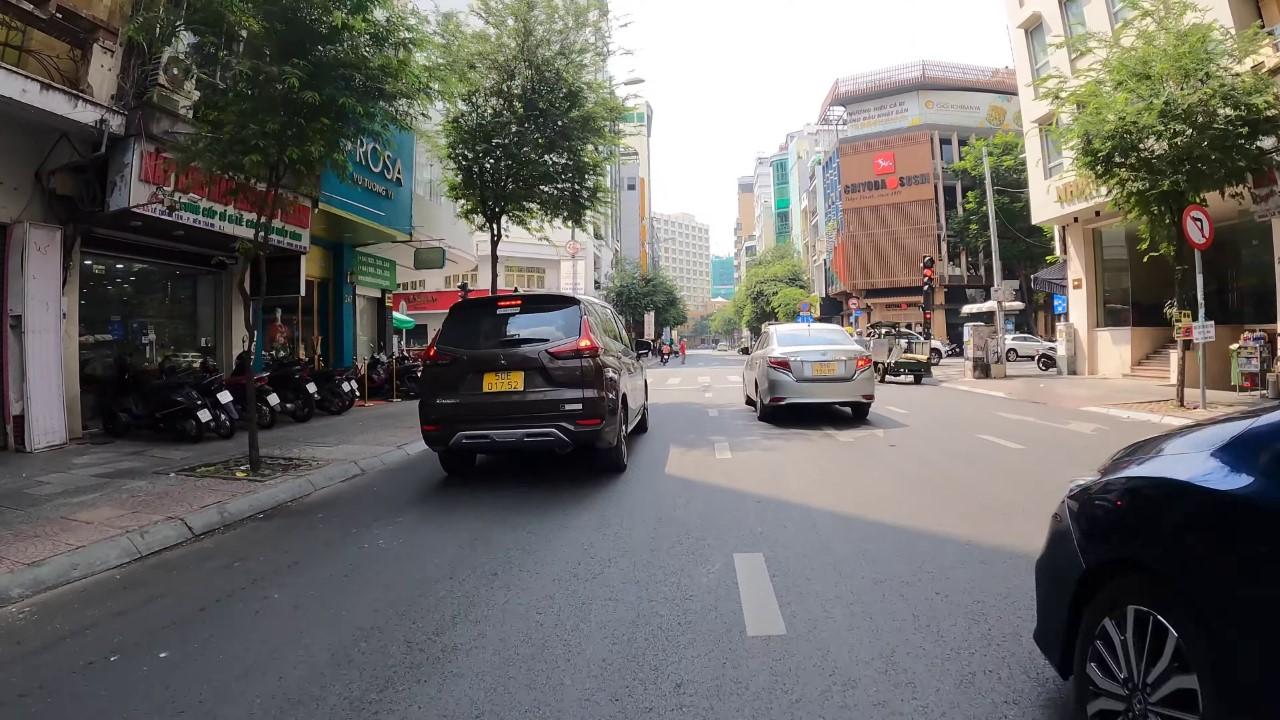cam_re_trai: (1178, 202, 1215, 255)
